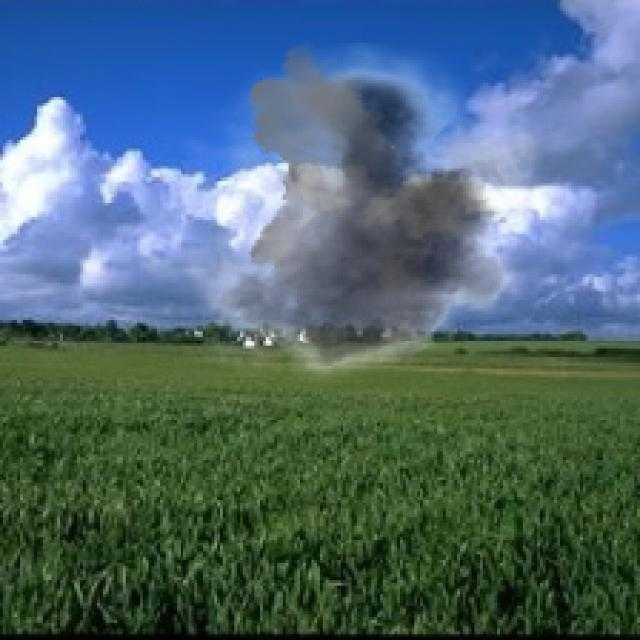Smoke: (137, 42, 560, 398)
